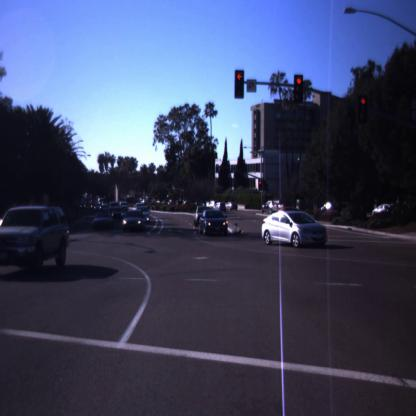trafficlight: (290, 68, 306, 108), (355, 91, 371, 128), (233, 66, 246, 103)
